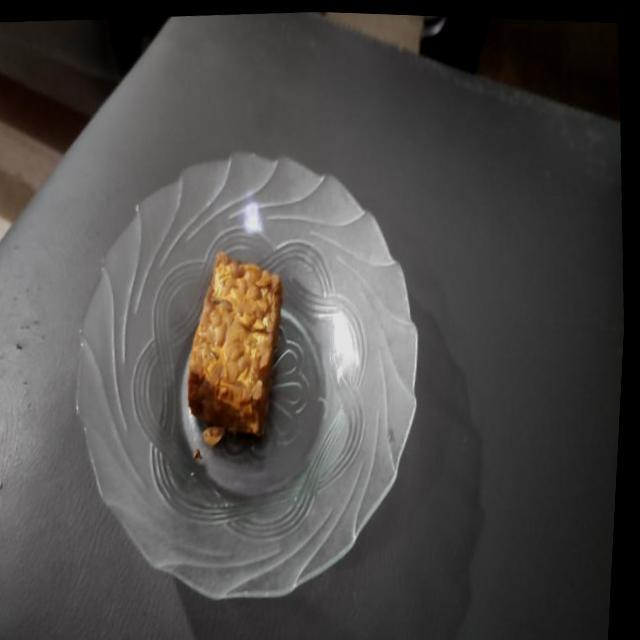tempe_goreng: (188, 252, 282, 442)
